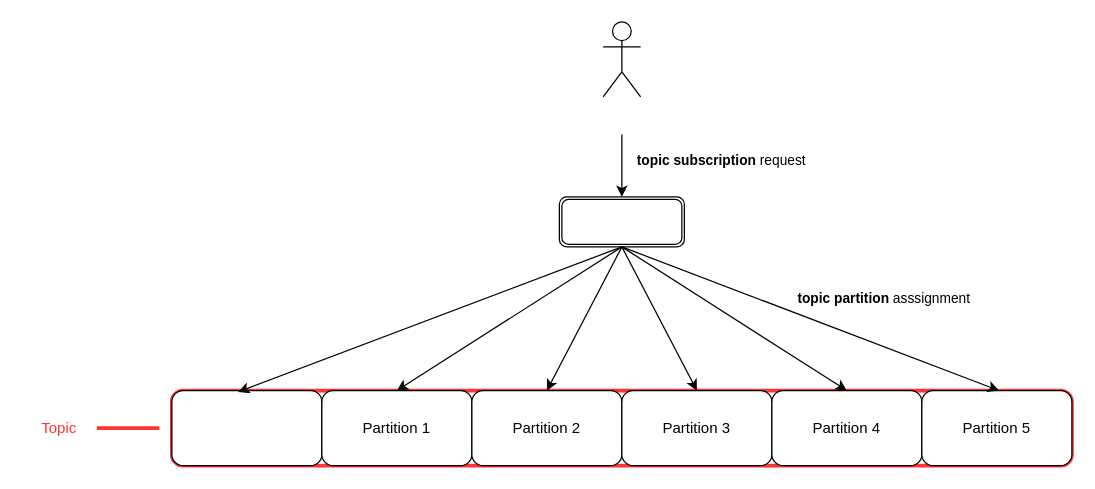
Image size: 1095x489. Some labels were removed from this diagram. Here are the shapes that lost their labels. From the top down, the centre of each, then its label:
At [621,59]: "Consumer".
At [621,221]: "kafka client".
At [246,427]: "Partition 0".
